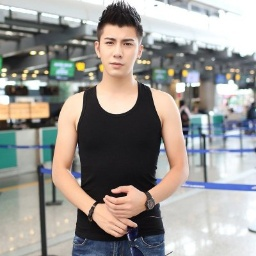face: (94, 4, 146, 80)
